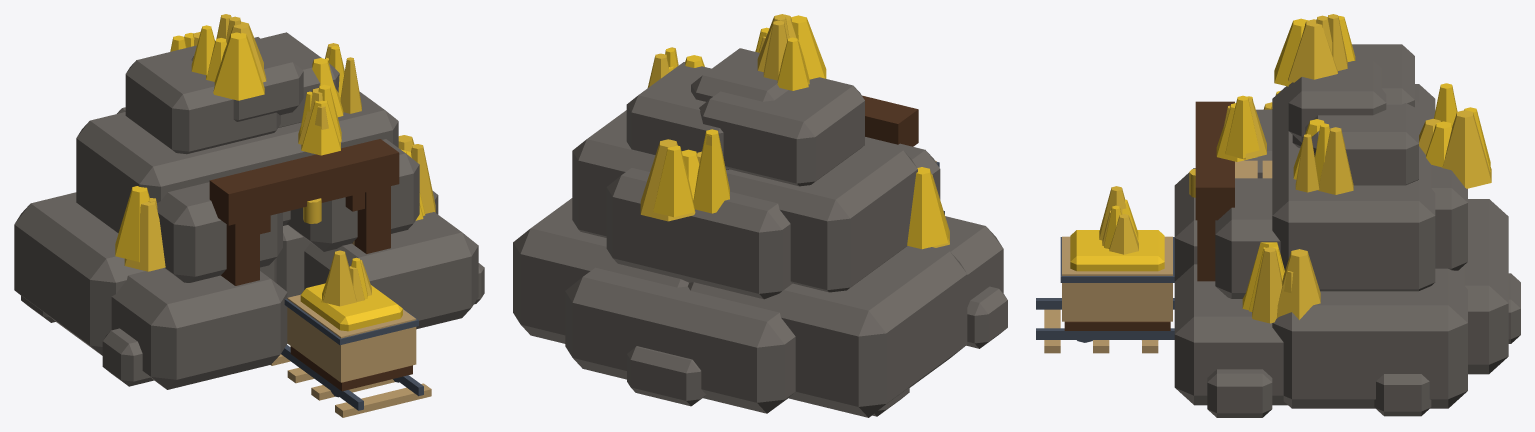
Rendered from AoE4_GoldMine.obj.
3 views of the same model, side by side, from view 1: azimuth 30°, elevation 25°; view 2: azimuth 150°, elevation 25°; view 3: azimuth 270°, elevation 25° (orthographic). The views are drawn at different scales.
Bounding box in the file's own units: 2.65 × 2.06 × 2.98.
